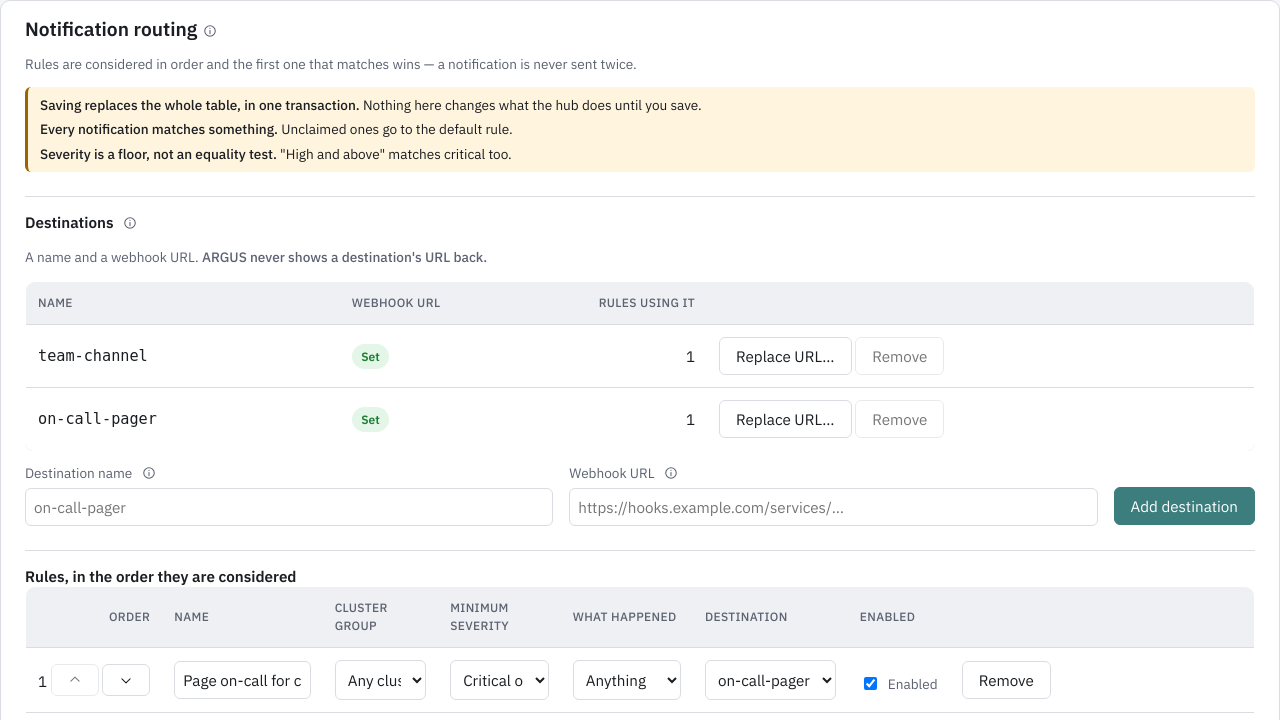
Scenario: NotificationRoutingCard (PROJECT.md F32) › will not stage a new destination without a URL, since the hub refuses one
The width and height of the screenshot is (1280, 720).
Expected: the field showing "Page on-call for criticals" is shown, top-left (174, 661), bottom-right (311, 699)
In the field with placeholder "on-call-pager": (289, 507) top-left (25, 488), bottom-right (553, 526), type "incidents-room"
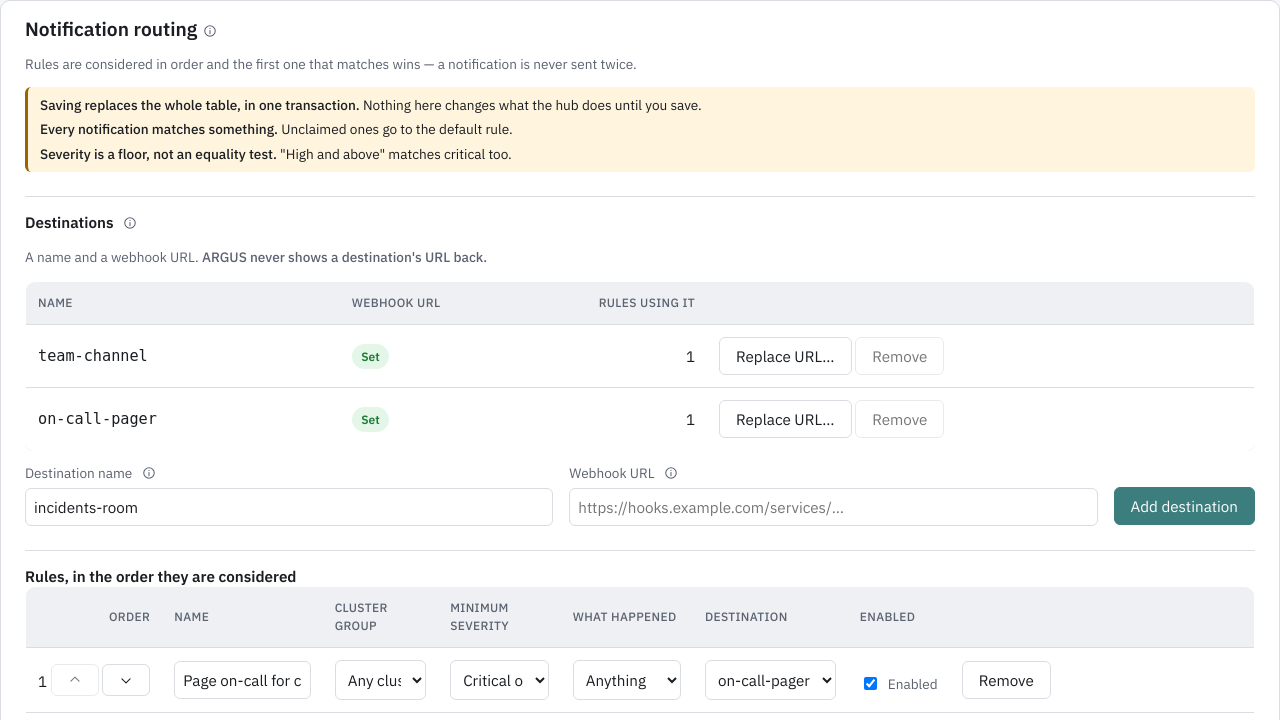
Click the button "Add destination": (1184, 506) top-left (1114, 487), bottom-right (1255, 525)
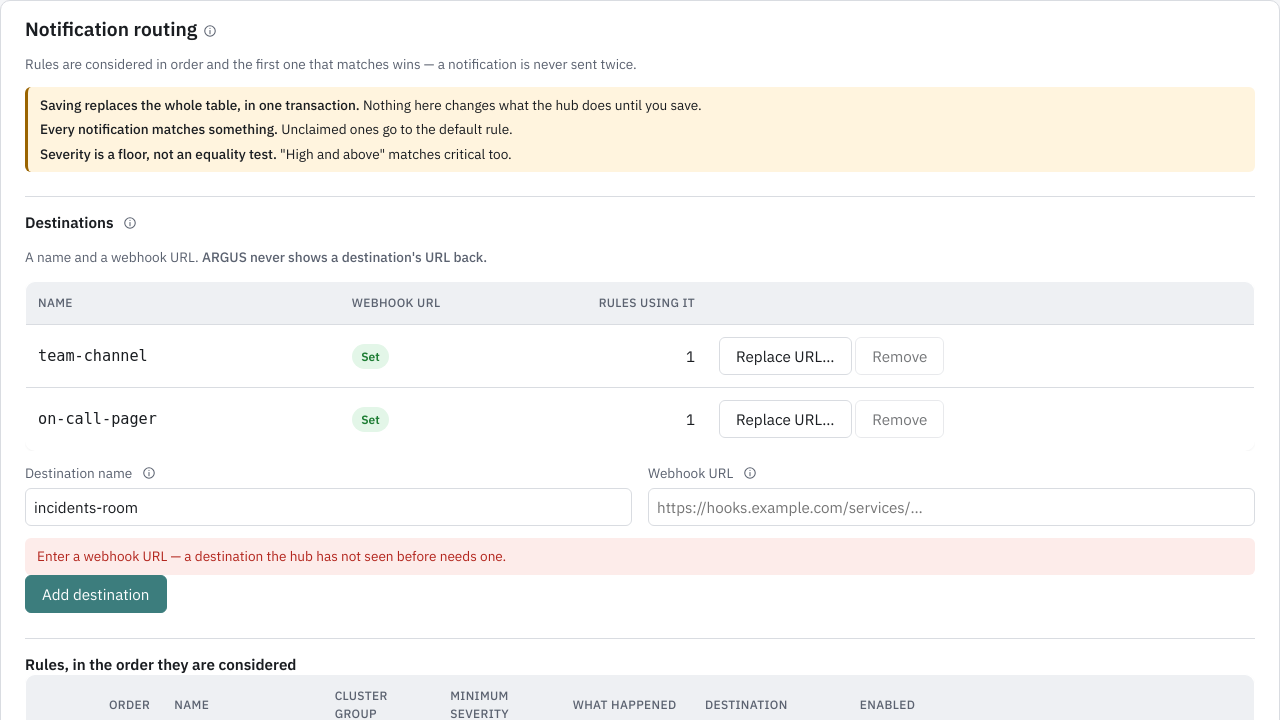
Result: the message shows "needs one" at top-left (37, 547), bottom-right (506, 565)
